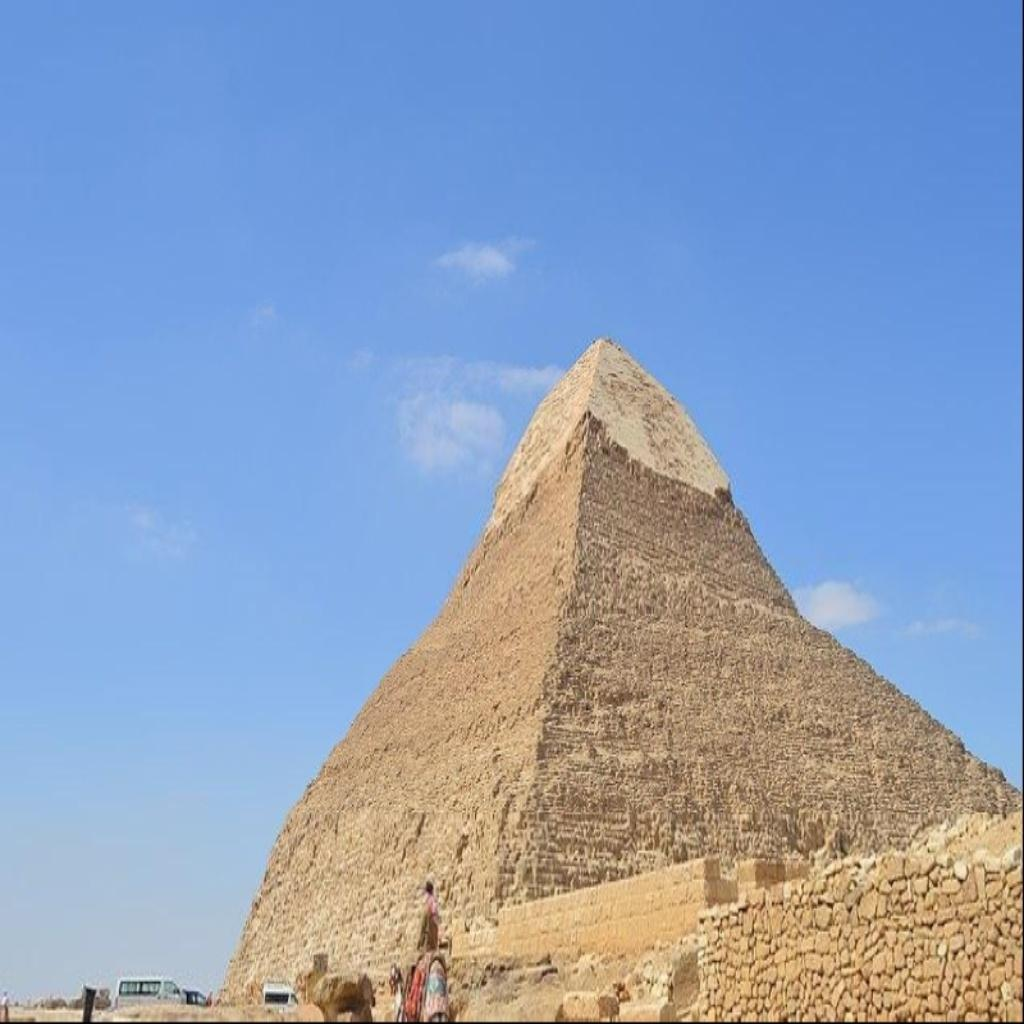Great Pyramids of Giza: (215, 331, 1019, 1009)
